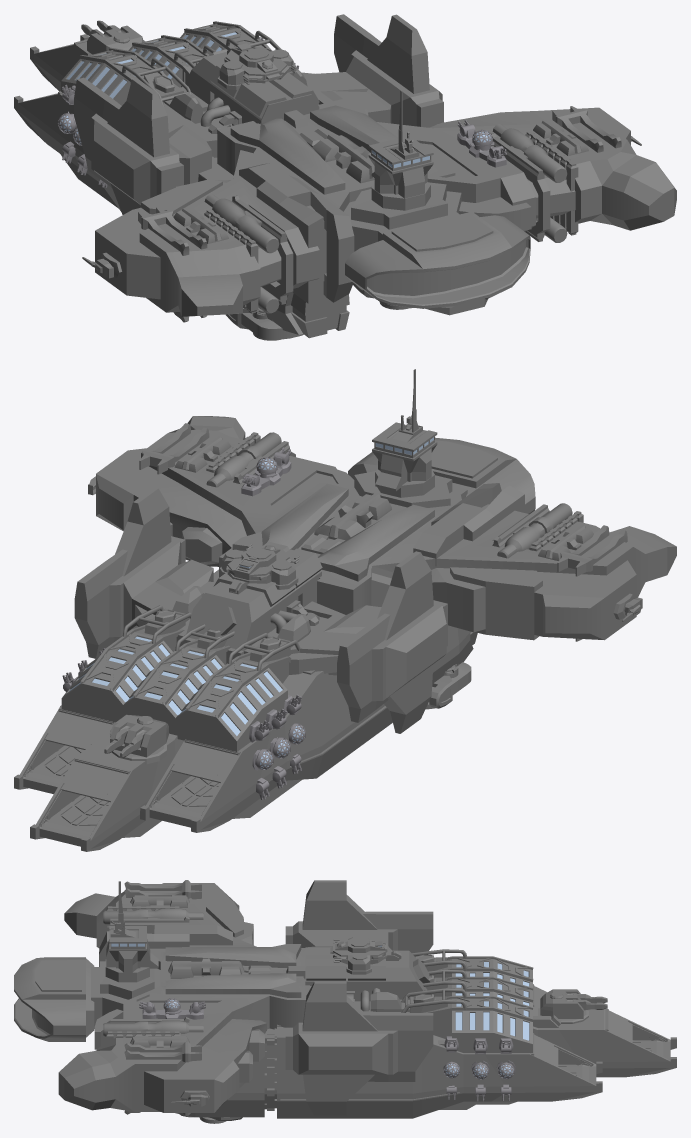
File: three_hangermed.fbx
3 views of the same model, one above another, from view 1: azimuth 30°, elevation 25°; view 2: azimuth 150°, elevation 25°; view 3: azimuth 270°, elevation 25° (orthographic). The views are drawn at different scales.
Parts seen in each view (by area): view 1: hull.tall.001, Fin Wing.002, eng.body.wide_mouth.001, hull.hangar.003, eleBridge.002, Bridge-1.002, hardpoint.base.3x.001, eleBridge.003, eleBridge.001, hull.hangar.002, Med Gun.001, Anti-Air-station.002 (+3 smaller); view 2: hull.tall.001, Fin Wing.002, hull.hangar.003, hull.hangar.002, eleBridge.002, eleBridge.001, eleBridge.003, eng.body.wide_mouth.001, hull.hangar.004, Bridge-1.002, hardpoint.base.3x.001, Med Gun.001 (+5 smaller); view 3: hull.tall.001, Fin Wing.002, hull.hangar.004, eleBridge.001, eng.body.wide_mouth.001, hull.hangar.002, eleBridge.002, Bridge-1.002, eleBridge.003, hardpoint.base.3x.001, Med Gun.001, Anti-Air-station.002 (+4 smaller).
Boxes of the visible parts, left/top/right/bottom form: hull.tall.001: left=95, top=97, right=676, bottom=322; Fin Wing.002: left=74, top=14, right=443, bottom=214; eng.body.wide_mouth.001: left=345, top=211, right=530, bottom=315; hull.hangar.003: left=14, top=91, right=349, bottom=338; eleBridge.002: left=61, top=47, right=203, bottom=123; Bridge-1.002: left=368, top=90, right=433, bottom=198; hardpoint.base.3x.001: left=217, top=43, right=296, bottom=89; eleBridge.003: left=128, top=35, right=215, bottom=86; eleBridge.001: left=180, top=21, right=307, bottom=86; hull.hangar.002: left=30, top=34, right=145, bottom=91; Med Gun.001: left=81, top=20, right=143, bottom=55; Anti-Air-station.002: left=457, top=120, right=506, bottom=167; hull.tall.001: left=96, top=416, right=676, bottom=641; Fin Wing.002: left=74, top=487, right=447, bottom=733; hull.hangar.003: left=140, top=607, right=477, bottom=832; hull.hangar.002: left=30, top=714, right=183, bottom=851; eleBridge.002: left=168, top=614, right=310, bottom=751; eleBridge.001: left=61, top=586, right=203, bottom=723; eleBridge.003: left=114, top=624, right=234, bottom=738; eng.body.wide_mouth.001: left=348, top=437, right=535, bottom=514; hull.hangar.004: left=14, top=569, right=218, bottom=794; Bridge-1.002: left=372, top=369, right=437, bottom=491; hardpoint.base.3x.001: left=219, top=543, right=299, bottom=594; Med Gun.001: left=104, top=715, right=168, bottom=764; hull.tall.001: left=58, top=880, right=311, bottom=1115; Fin Wing.002: left=285, top=880, right=433, bottom=1115; hull.hangar.004: left=175, top=1024, right=602, bottom=1118; eleBridge.001: left=370, top=988, right=533, bottom=1053; eng.body.wide_mouth.001: left=14, top=957, right=94, bottom=1041; hull.hangar.002: left=533, top=1006, right=676, bottom=1077; eleBridge.002: left=412, top=949, right=533, bottom=987; Bridge-1.002: left=106, top=881, right=158, bottom=972; eleBridge.003: left=422, top=969, right=533, bottom=1006; hardpoint.base.3x.001: left=330, top=934, right=401, bottom=974; Med Gun.001: left=540, top=989, right=607, bottom=1023; Anti-Air-station.002: left=139, top=998, right=205, bottom=1019.
Size of the model in its own units: 15.45 by 7.38 by 20.69.
